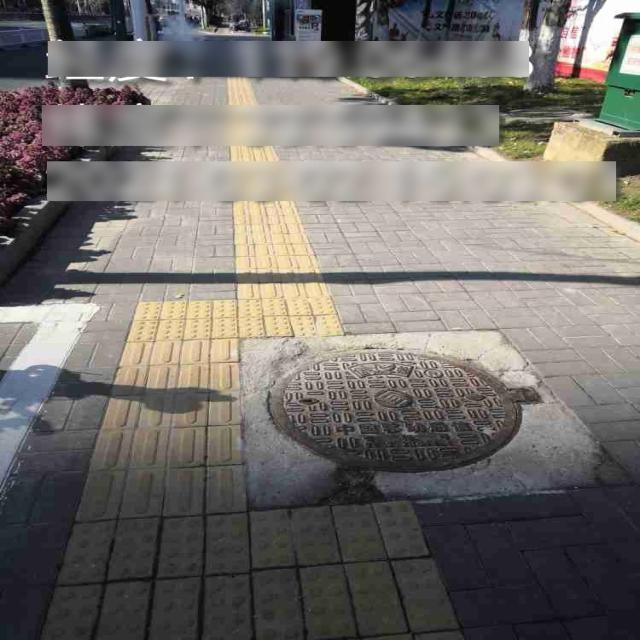Good: (239, 330, 555, 494)
